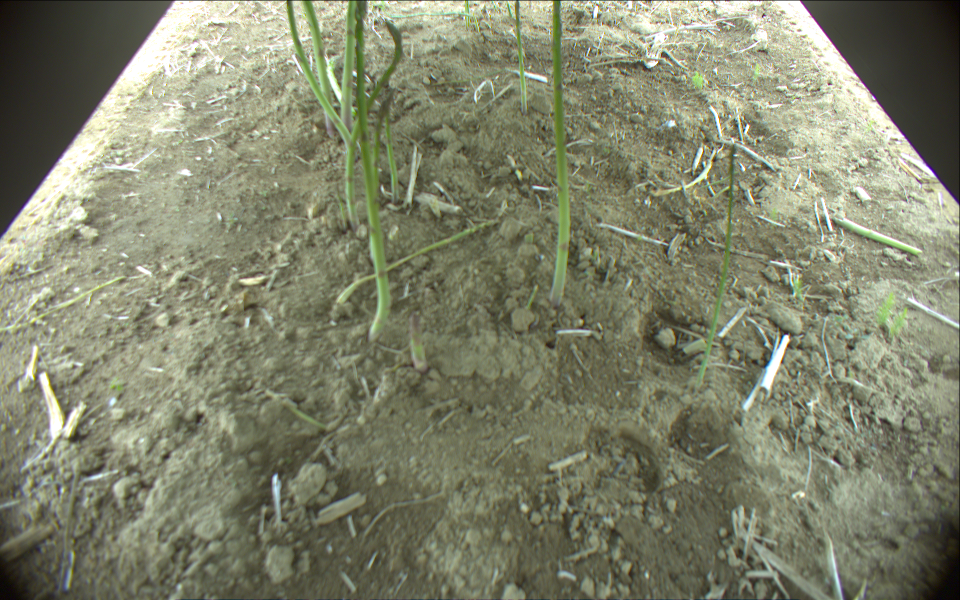aspa: (349, 1, 392, 344), (333, 218, 500, 306), (345, 21, 407, 228), (284, 1, 360, 158), (696, 143, 738, 387), (300, 1, 338, 135), (832, 213, 923, 256), (372, 87, 396, 197), (383, 8, 480, 30), (324, 55, 355, 119), (340, 1, 354, 134), (514, 1, 529, 114), (386, 107, 402, 204), (408, 311, 428, 369), (463, 1, 471, 25), (505, 1, 512, 17)
